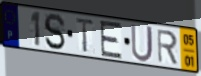1: (28, 10, 41, 48)
E: (99, 20, 124, 60)
R: (156, 28, 179, 66)
S: (43, 12, 68, 52)
T: (74, 16, 95, 54)
U: (130, 23, 155, 64)
